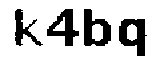4: (46, 6, 78, 50)
b: (81, 5, 113, 49)
k: (9, 6, 45, 50)
q: (118, 14, 151, 57)
